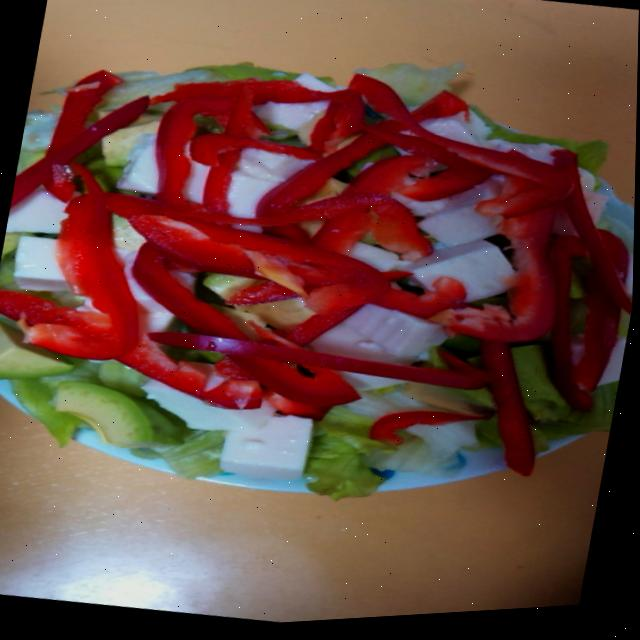蔬菜料理: (0, 0, 640, 557)
